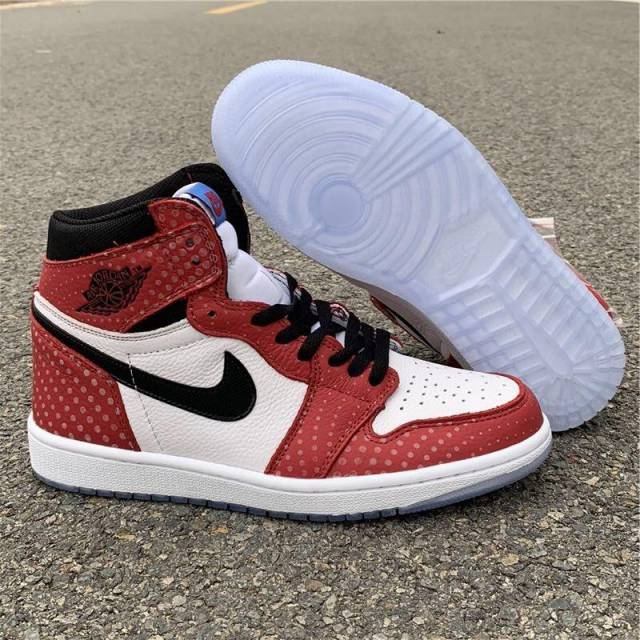Air Jordan 1 Spiderman: (17, 165, 558, 528)
